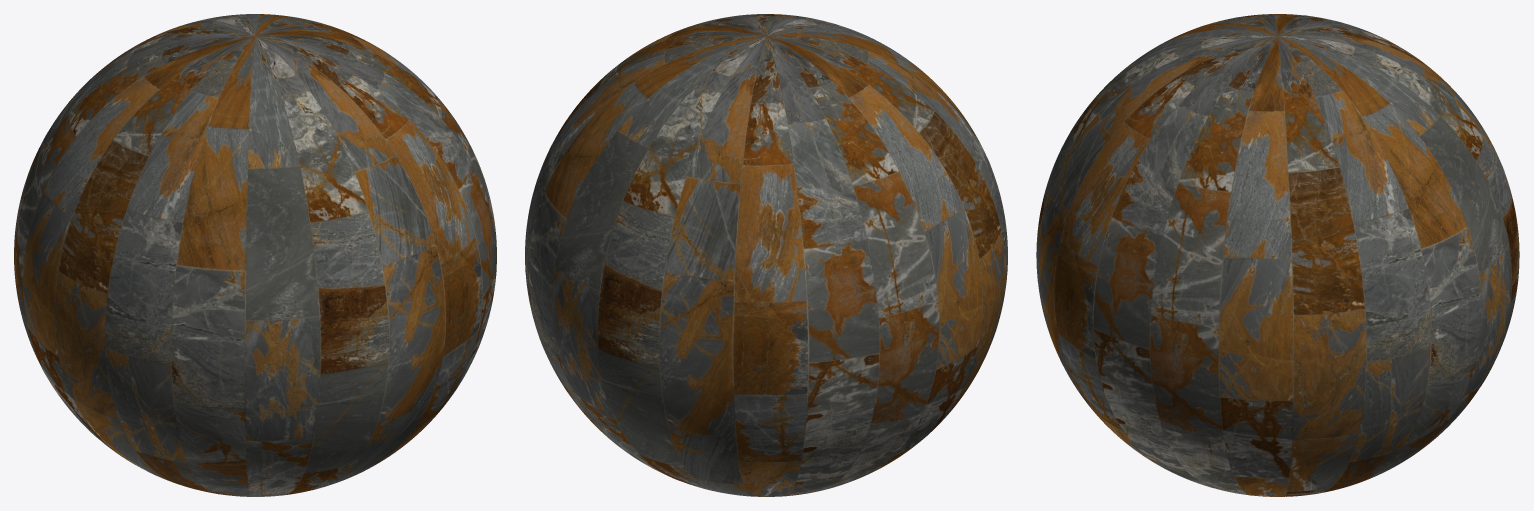
Rendered from grey_cartago_01_1k.gltf.
The picture shows the model from 3 angles, left to right: view 1: azimuth 30°, elevation 25°; view 2: azimuth 150°, elevation 25°; view 3: azimuth 270°, elevation 25°; orthographic projection.
Visible parts, largest first — view 1: sphere_gltf; view 2: sphere_gltf; view 3: sphere_gltf.
Part boxes in pixels (x1,y1,x2,y2): sphere_gltf: [14, 14, 496, 496]; sphere_gltf: [525, 14, 1007, 496]; sphere_gltf: [1036, 14, 1519, 496].
Bounding box in the file's own units: 0.7506 × 0.7505 × 0.7506.
1 material, 1 textured.
